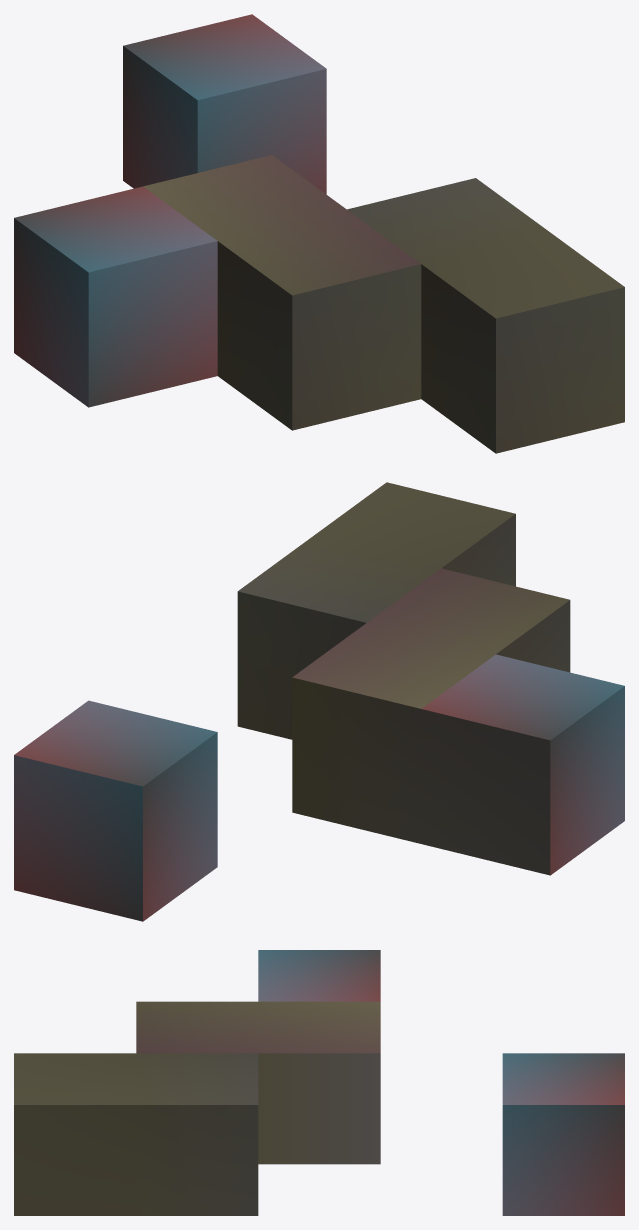
The model's file is CigaretteButt_B_00.fbx.
The picture shows the model from 3 angles, top to bottom: view 1: azimuth 30°, elevation 25°; view 2: azimuth 150°, elevation 25°; view 3: azimuth 270°, elevation 25°; orthographic projection. The views are drawn at different scales.
Parts seen in each view (by area): view 1: CigaretteButt_B_00; view 2: CigaretteButt_B_00; view 3: CigaretteButt_B_00.
Boxes of the visible parts, x1=… form: CigaretteButt_B_00: x1=14, y1=14, x2=624, y2=453; CigaretteButt_B_00: x1=14, y1=482, x2=624, y2=921; CigaretteButt_B_00: x1=14, y1=950, x2=624, y2=1215.
Size of the model in its own units: 15 by 5 by 25.
